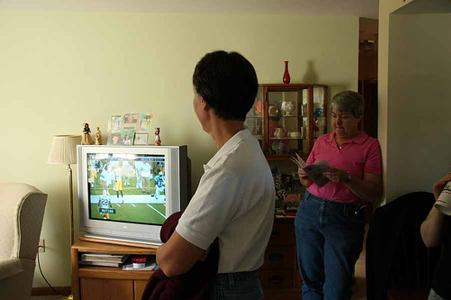person: (155, 52, 278, 298)
